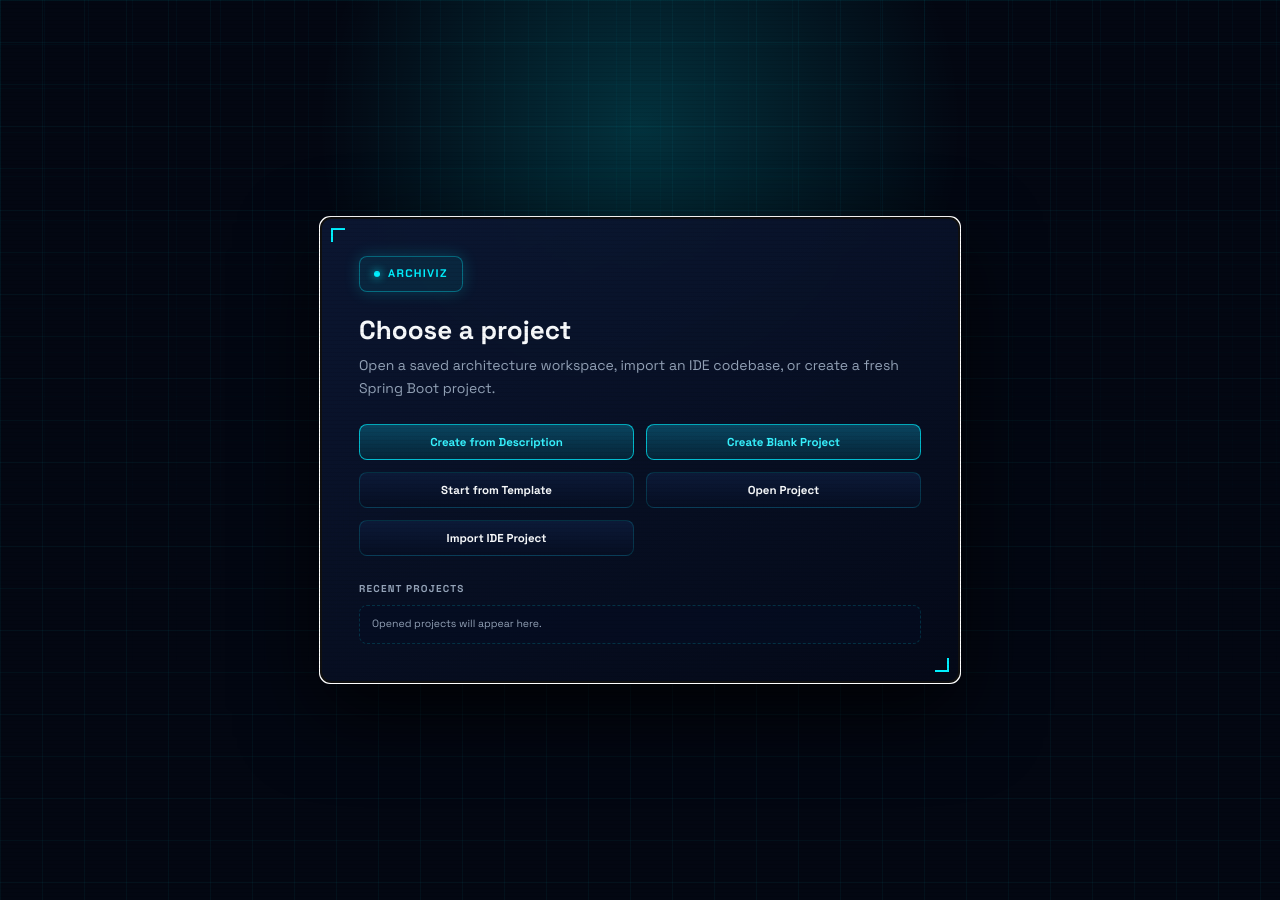
Test case: Milestone 1 golden-path shell › offers starter templates before a project is created
Step 1. Click the button "Start from Template" → (496, 490), box [359, 472, 634, 508]
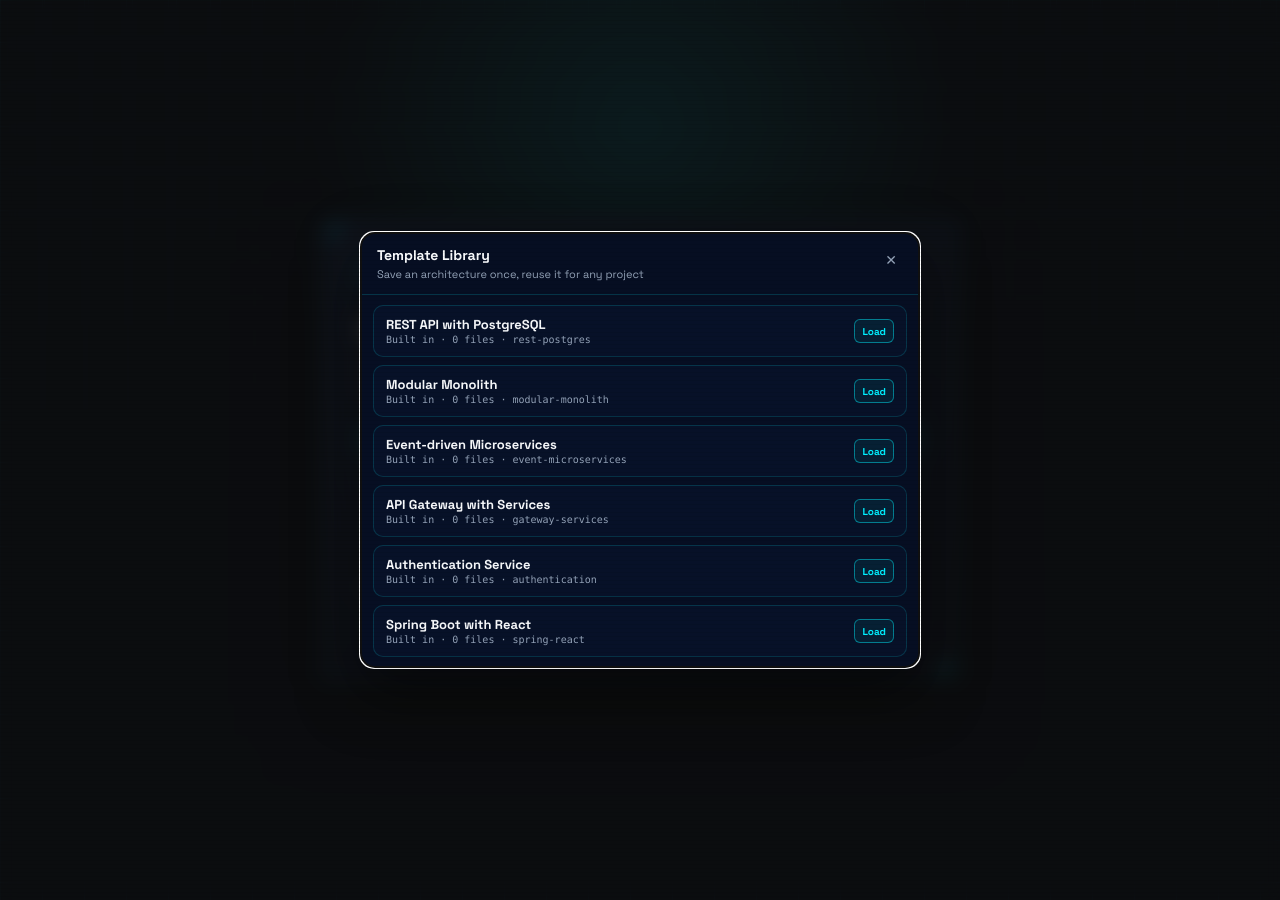
Check: the dialog "Template Library" is shown, box [360, 232, 920, 668]
Check: the text "REST API with PostgreSQL" is shown, box [386, 316, 546, 333]
Check: the text "Spring Boot with React" is shown, box [386, 616, 531, 633]
